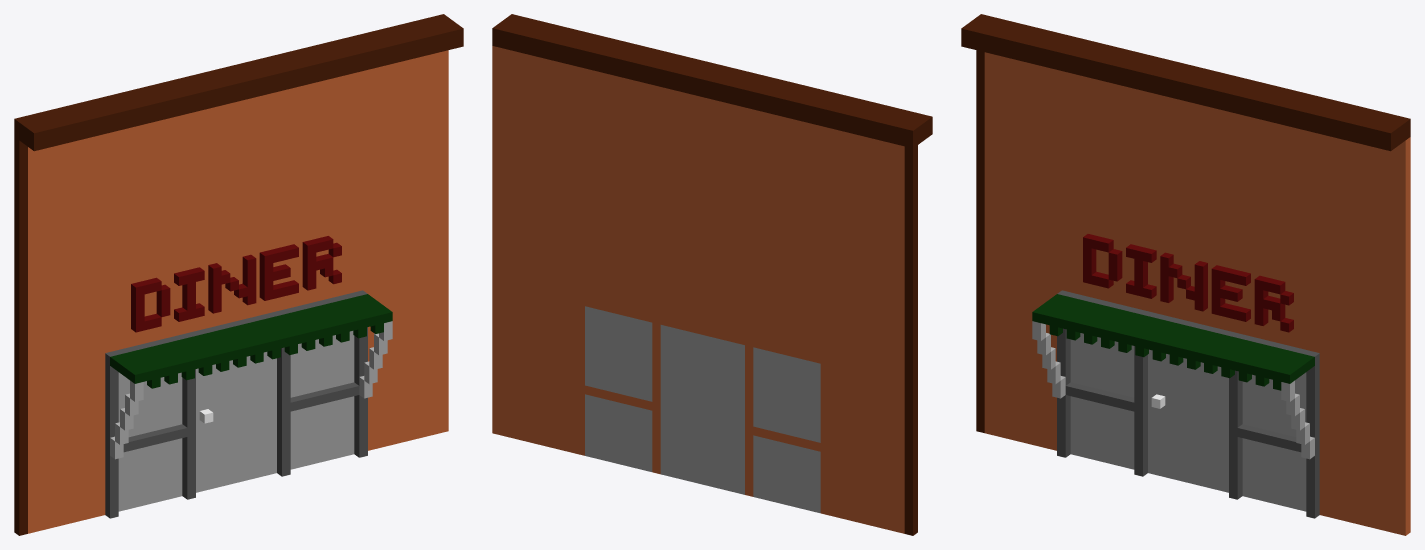
The model's file is Walls-0.obj.
The picture shows the model from 3 angles, left to right: view 1: azimuth 30°, elevation 25°; view 2: azimuth 150°, elevation 25°; view 3: azimuth 330°, elevation 25°; orthographic projection. The views are drawn at different scales.
Visible parts, largest first — view 1: Walls-0; view 2: Walls-0; view 3: Walls-0.
Part boxes in pixels (x1,y1,x2,y2): Walls-0: (14,14,463,535); Walls-0: (492,14,932,535); Walls-0: (961,14,1410,535).
Size of the model in its own units: 50 by 46 by 7.
Materials: 1 (1 with a texture image).
